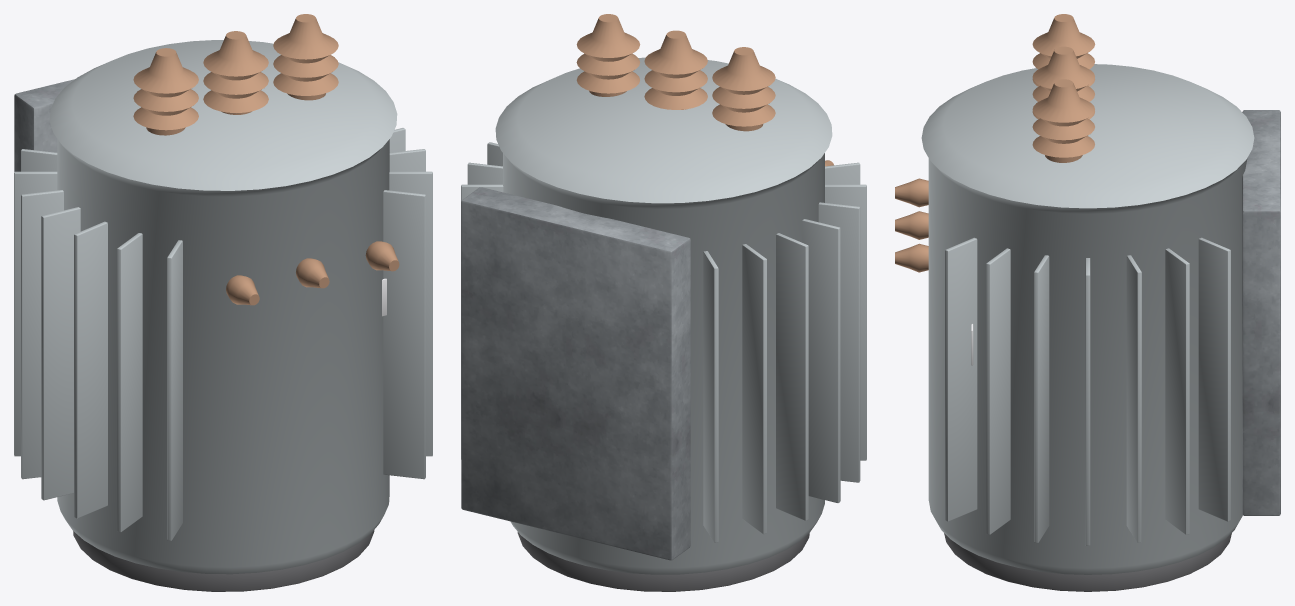
File: ELE-ENT-003_anim.glb
The picture shows the model from 3 angles, left to right: view 1: azimuth 30°, elevation 25°; view 2: azimuth 150°, elevation 25°; view 3: azimuth 270°, elevation 25°; orthographic projection. The views are drawn at different scales.
Visible parts, largest first — view 1: ELE-ENT-003_anim0; view 2: ELE-ENT-003_anim0; view 3: ELE-ENT-003_anim0.
Part boxes in pixels (x1=…): ELE-ENT-003_anim0: x1=14, y1=14, x2=432, y2=591; ELE-ENT-003_anim0: x1=461, y1=14, x2=866, y2=591; ELE-ENT-003_anim0: x1=895, y1=14, x2=1280, y2=591.
Bounding box in the file's own units: 0.83 × 1.1 × 0.8.
Materials: 5 (1 with a texture image).
